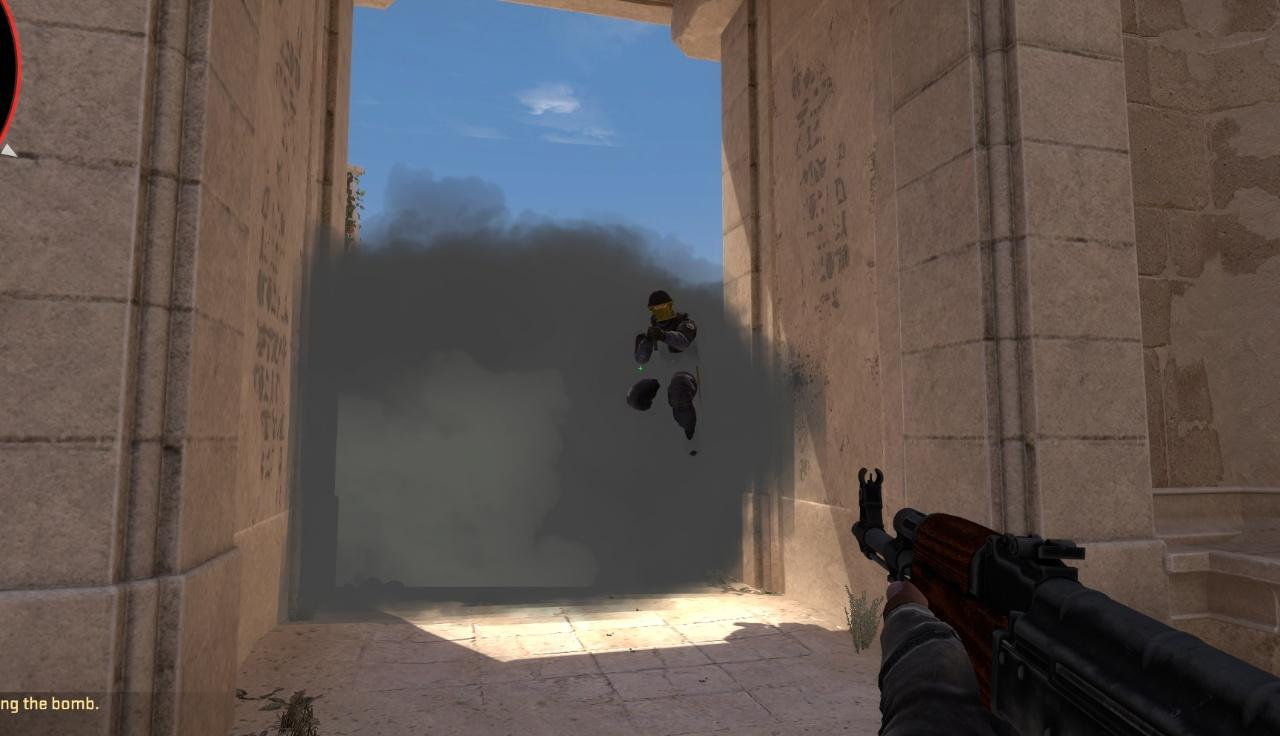ct: (635, 292, 700, 446)
cthead: (647, 293, 673, 324)
rifle: (859, 472, 1280, 736)
